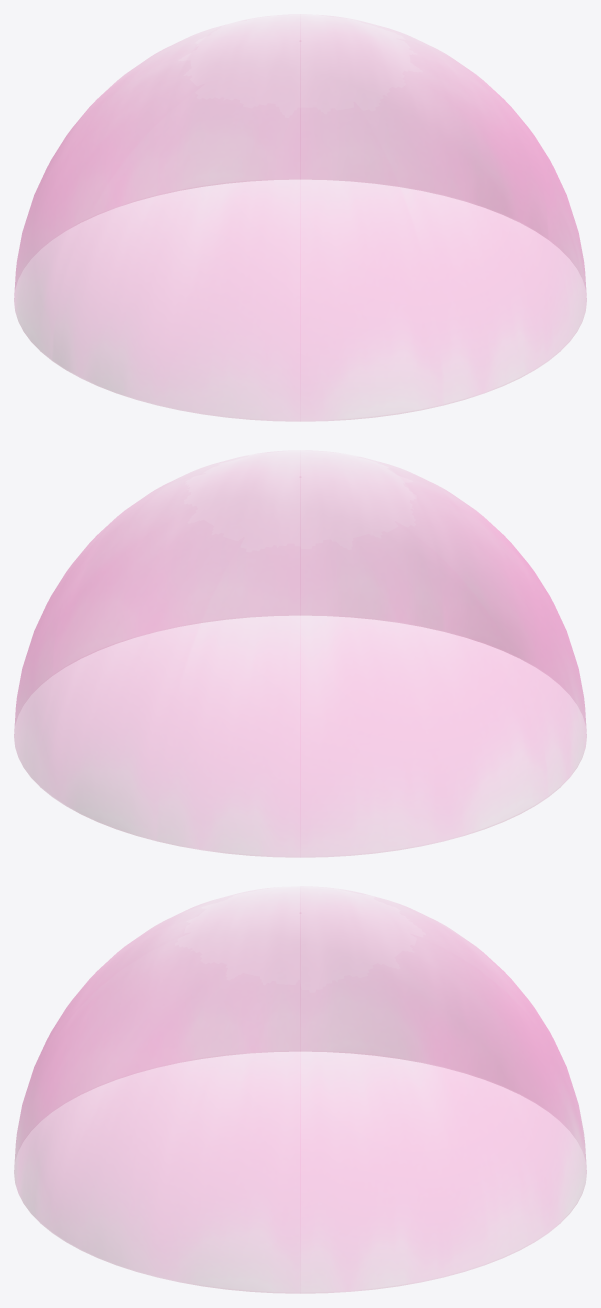
File: shock_dome_rose.glb
3 views of the same model, one above another, from view 1: azimuth 30°, elevation 25°; view 2: azimuth 150°, elevation 25°; view 3: azimuth 270°, elevation 25° (orthographic).
Visible parts, largest first — view 1: dome; view 2: dome; view 3: dome.
Part boxes in pixels (x1,y1,x2,y2): dome: (14,26,586,421); dome: (14,466,586,857); dome: (14,899,586,1293).
Size of the model in its own units: 2 by 1 by 2.
Materials: 1 (1 with a texture image).
